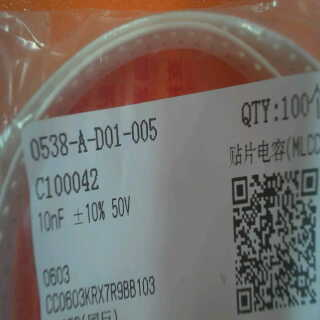10nF: (34, 206, 70, 233)
